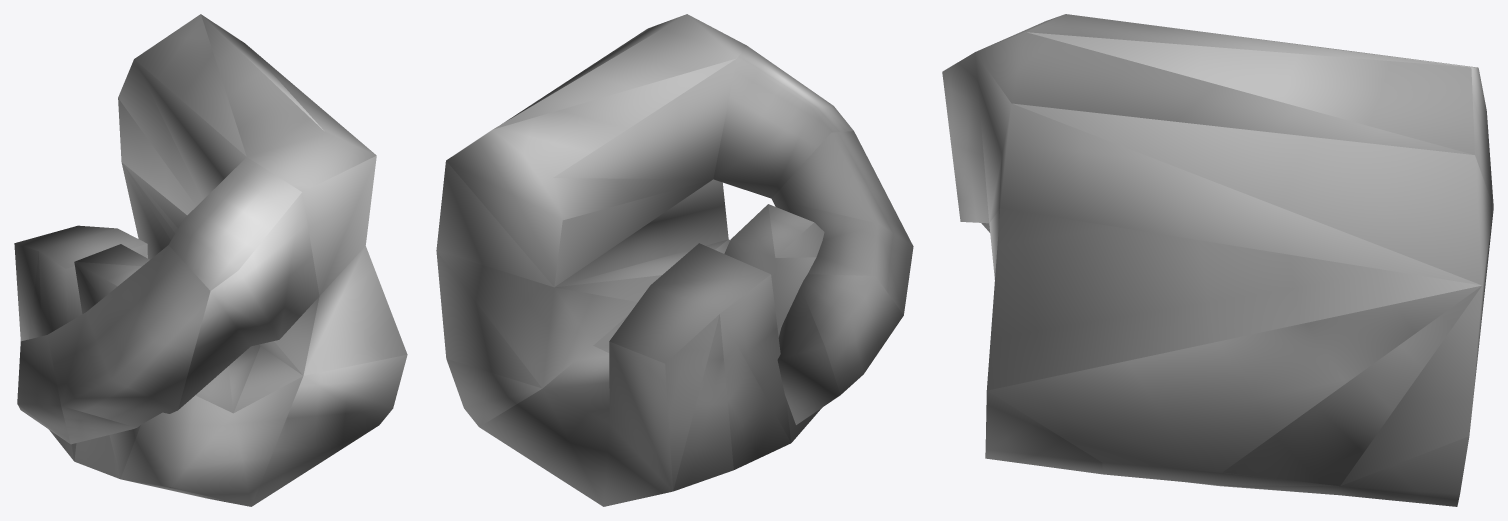
File: l_hand.glb
3 views of the same model, side by side, from view 1: azimuth 30°, elevation 25°; view 2: azimuth 150°, elevation 25°; view 3: azimuth 270°, elevation 25° (orthographic). The views are drawn at different scales.
Visible parts, largest first — view 1: l_hand; view 2: l_hand; view 3: l_hand.
Part boxes in pixels (box(x1,y1,x2,y2)): l_hand: box(14, 14, 407, 506); l_hand: box(436, 14, 913, 506); l_hand: box(942, 14, 1493, 506).
Bounding box in the file's own units: 0.2403 × 0.259 × 0.2502.
Materials: 1 (1 with a texture image).
